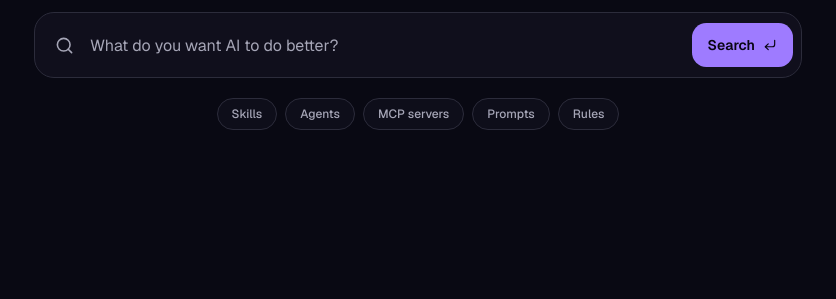
Test: ConsoleSearch › offers popular queries on focus and fills the field with one
The image size is (836, 299).
Click the dropdown at (383, 45), box x1=74 y1=13 x2=692 y2=77
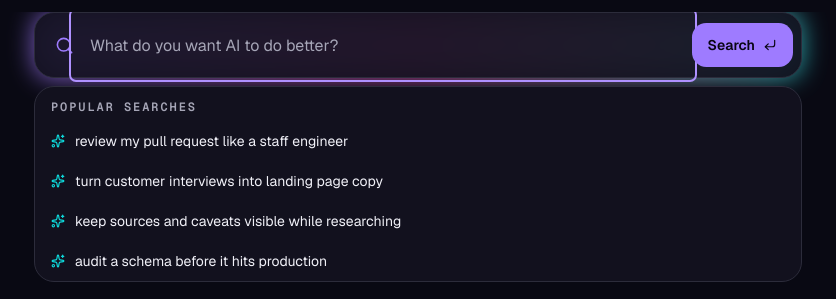
Click the button "review my pull request like a staff engineer" at (212, 141), box x1=35 y1=121 x2=801 y2=161
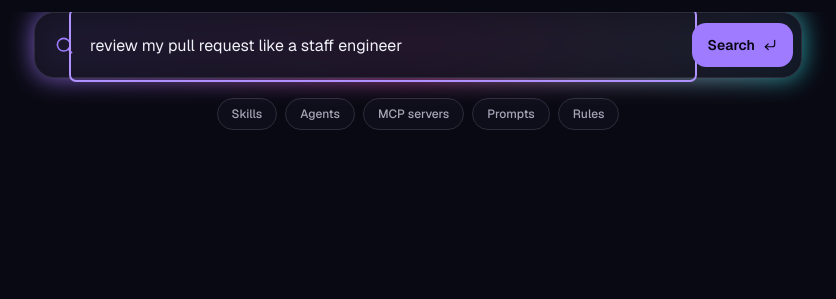
Check: the dropdown holds "review my pull request like a staff engineer", box x1=74 y1=13 x2=692 y2=77
Check: the list item "Popular searches" is gone
